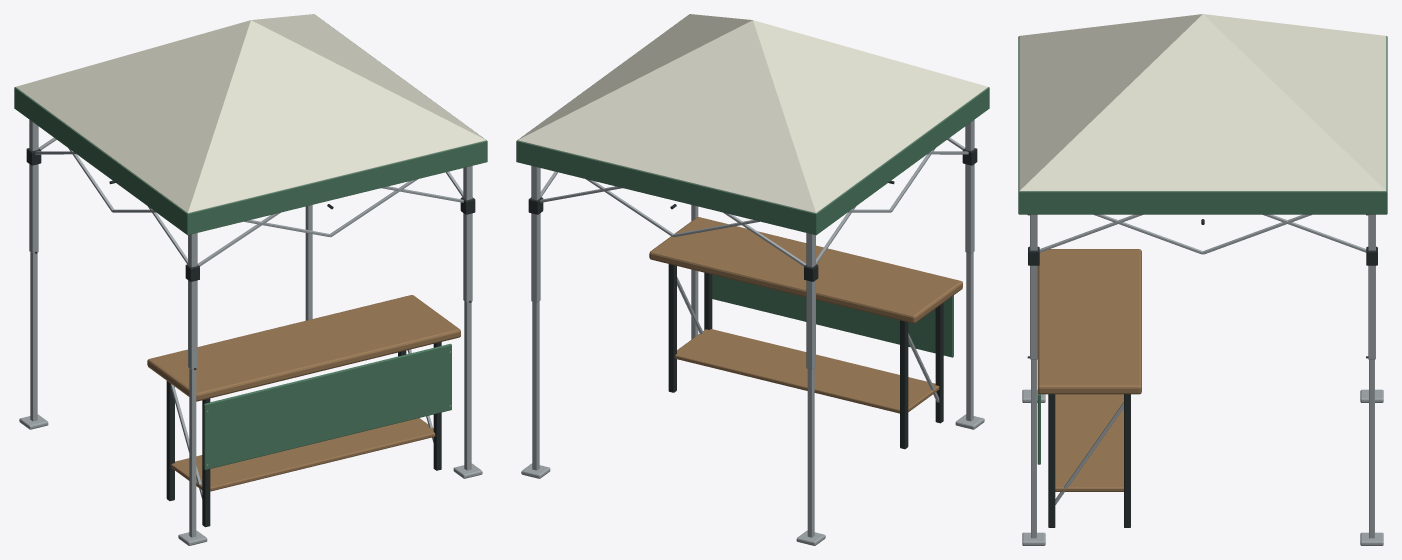
Rendered from city-folding-market-stall.glb.
The picture shows the model from 3 angles, left to right: view 1: azimuth 30°, elevation 25°; view 2: azimuth 150°, elevation 25°; view 3: azimuth 270°, elevation 25°; orthographic projection. The views are drawn at different scales.
Parts seen in each view (by area): view 1: Assembly | Warm ivory canopy fabric, Assembly | Moss green canopy valance, Assembly | Counter warm wood solid color, Assembly | Zinc plated steel, Assembly | Graphite machine powder coat; view 2: Assembly | Warm ivory canopy fabric, Assembly | Counter warm wood solid color, Assembly | Moss green canopy valance, Assembly | Zinc plated steel, Assembly | Graphite machine powder coat; view 3: Assembly | Warm ivory canopy fabric, Assembly | Counter warm wood solid color, Assembly | Moss green canopy valance, Assembly | Zinc plated steel, Assembly | Graphite machine powder coat.
Part boxes in pixels (x1=…): Assembly | Warm ivory canopy fabric: x1=15, y1=14, x2=486, y2=213; Assembly | Moss green canopy valance: x1=14, y1=20, x2=487, y2=469; Assembly | Counter warm wood solid color: x1=147, y1=295, x2=460, y2=491; Assembly | Zinc plated steel: x1=19, y1=120, x2=482, y2=545; Assembly | Graphite machine powder coat: x1=26, y1=148, x2=475, y2=527; Assembly | Warm ivory canopy fabric: x1=517, y1=14, x2=988, y2=213; Assembly | Counter warm wood solid color: x1=649, y1=217, x2=962, y2=413; Assembly | Moss green canopy valance: x1=516, y1=20, x2=989, y2=357; Assembly | Zinc plated steel: x1=521, y1=120, x2=984, y2=545; Assembly | Graphite machine powder coat: x1=528, y1=148, x2=977, y2=449; Assembly | Warm ivory canopy fabric: x1=1019, y1=14, x2=1386, y2=191; Assembly | Counter warm wood solid color: x1=1037, y1=249, x2=1141, y2=491; Assembly | Moss green canopy valance: x1=1018, y1=36, x2=1387, y2=464; Assembly | Zinc plated steel: x1=1022, y1=214, x2=1383, y2=545; Assembly | Graphite machine powder coat: x1=1027, y1=214, x2=1377, y2=527.
Size of the model in its own units: 2.05 by 2.8 by 2.05.
